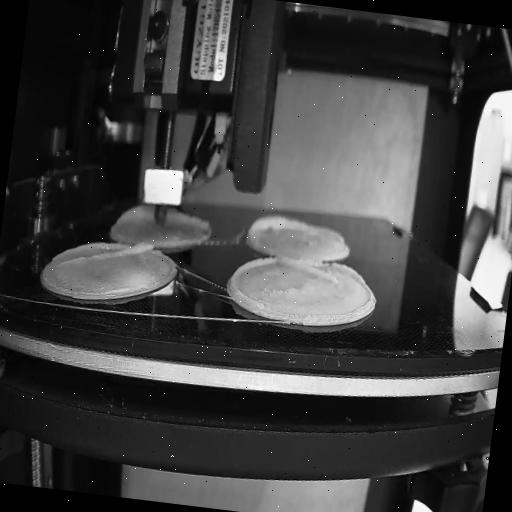over_extrusion: (56, 230, 155, 280), (228, 251, 276, 311), (244, 210, 308, 254), (276, 256, 366, 286), (164, 206, 214, 232), (116, 202, 156, 232), (312, 224, 346, 244)
